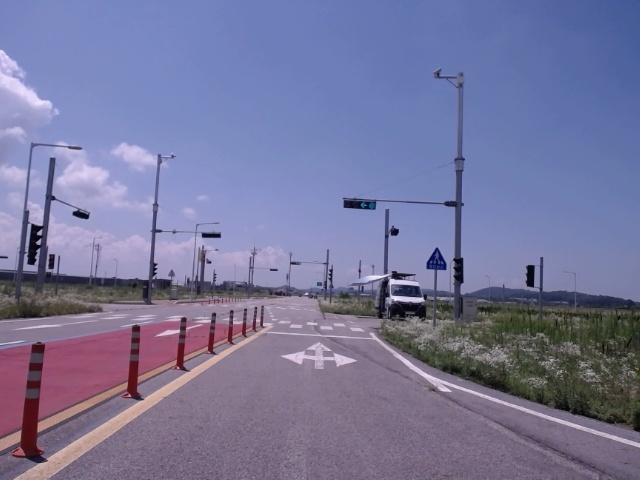all_green_4: (345, 198, 378, 211)
